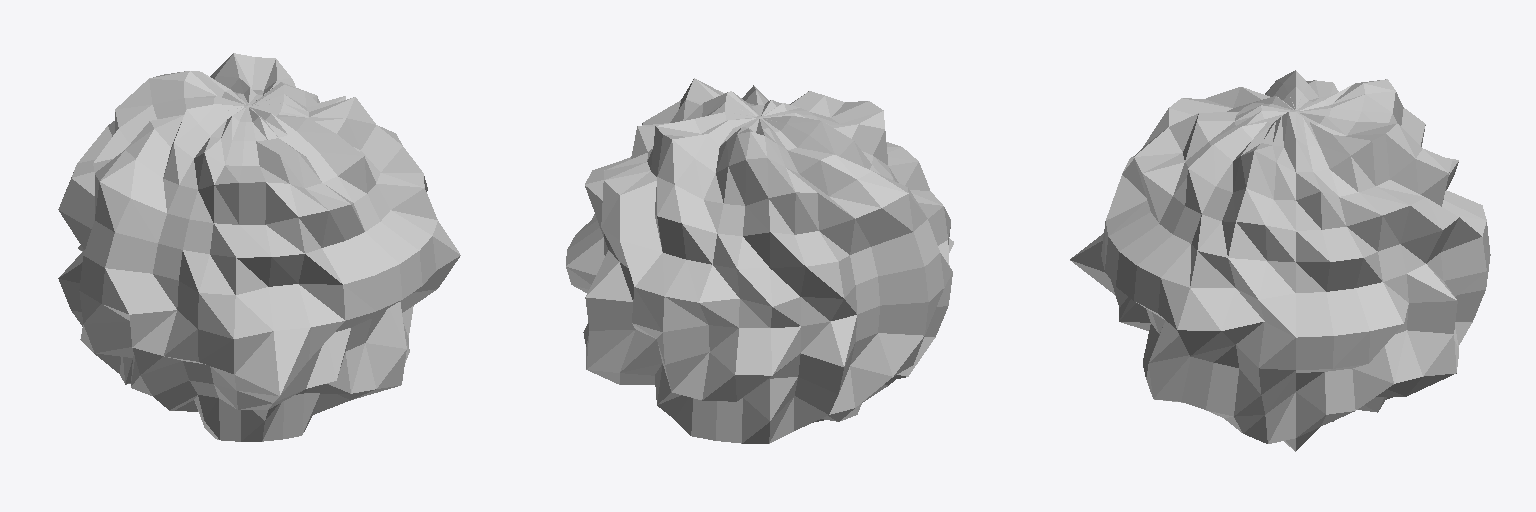
Rendered from asteroid_0.obj.
The picture shows the model from 3 angles: view 1: azimuth 30°, elevation 25°; view 2: azimuth 150°, elevation 25°; view 3: azimuth 270°, elevation 25°; orthographic projection.
Visible parts, largest first — view 1: Sphere_Sphere.001; view 2: Sphere_Sphere.001; view 3: Sphere_Sphere.001.
Part boxes in pixels (x1,y1,x2,y2): Sphere_Sphere.001: (58,53,460,441); Sphere_Sphere.001: (566,78,953,443); Sphere_Sphere.001: (1070,70,1490,451).
Size of the model in its own units: 1.34 by 1.22 by 1.45.